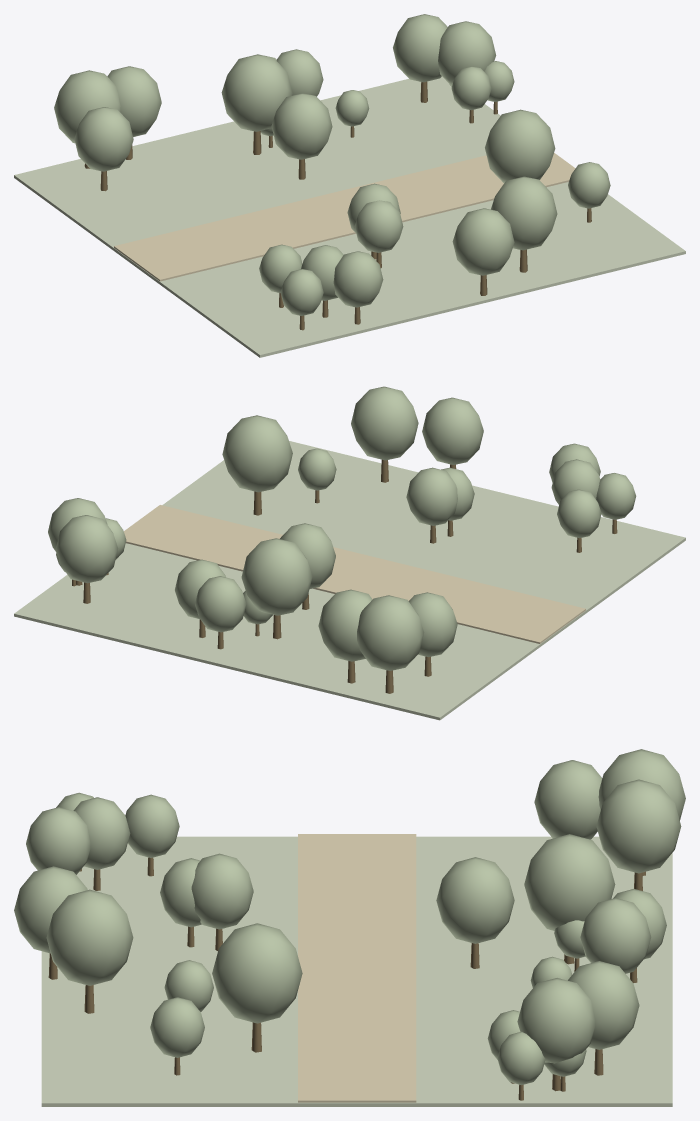
3 views of the same model, one above another, from view 1: azimuth 30°, elevation 25°; view 2: azimuth 150°, elevation 25°; view 3: azimuth 270°, elevation 25° (orthographic). The views are drawn at different scales.
Parts seen in each view (by area): view 1: terrain, object 2, lod-near-12, lod-near-0, lod-near-2, lod-near-22, lod-near-27, lod-near-16, lod-near-1, lod-near-8, lod-near-20, lod-near-11 (+11 smaller); view 2: terrain, object 2, lod-near-12, lod-near-0, lod-near-8, lod-near-2, lod-near-1, lod-near-22, lod-near-11, lod-near-26, lod-near-10, lod-near-16 (+9 smaller); view 3: terrain, object 2, lod-near-0, lod-near-2, lod-near-12, lod-near-11, lod-near-27, lod-near-20, lod-near-16, lod-near-15, lod-near-1, lod-near-26 (+14 smaller).
Boxes of the visible parts, x1,y1,x2,y2 form: terrain: [14, 76, 685, 357]; object 2: [114, 153, 575, 281]; lod-near-12: [221, 54, 292, 131]; lod-near-0: [485, 109, 555, 182]; lod-near-2: [491, 176, 557, 250]; lod-near-22: [452, 208, 514, 275]; lod-near-27: [271, 93, 332, 159]; lod-near-16: [74, 107, 133, 171]; lod-near-1: [393, 14, 447, 82]; lod-near-8: [54, 70, 120, 143]; lod-near-20: [438, 21, 496, 85]; lod-near-11: [107, 66, 161, 136]; terrain: [14, 441, 685, 720]; object 2: [124, 505, 585, 643]; lod-near-12: [241, 538, 312, 615]; lod-near-0: [222, 415, 292, 492]; lod-near-8: [357, 595, 424, 670]; lod-near-2: [351, 386, 418, 460]; lod-near-1: [55, 515, 118, 583]; lod-near-22: [422, 397, 483, 464]; lod-near-11: [318, 589, 372, 661]; lod-near-26: [406, 467, 457, 525]; lod-near-10: [195, 576, 246, 632]; lod-near-16: [408, 592, 457, 657]; terrain: [41, 836, 672, 1106]; object 2: [298, 834, 416, 1102]; lod-near-0: [212, 923, 302, 1023]; lod-near-2: [46, 889, 133, 985]; lod-near-12: [524, 834, 615, 930]; lod-near-11: [596, 779, 681, 873]; lod-near-27: [436, 857, 514, 943]; lod-near-20: [517, 978, 595, 1063]; lod-near-16: [534, 760, 602, 839]; lod-near-15: [580, 898, 651, 973]; lod-near-1: [568, 961, 639, 1049]; lod-near-26: [191, 853, 253, 929].
Bounding box in the file's own units: 32.99 × 7.29 × 34.09.
